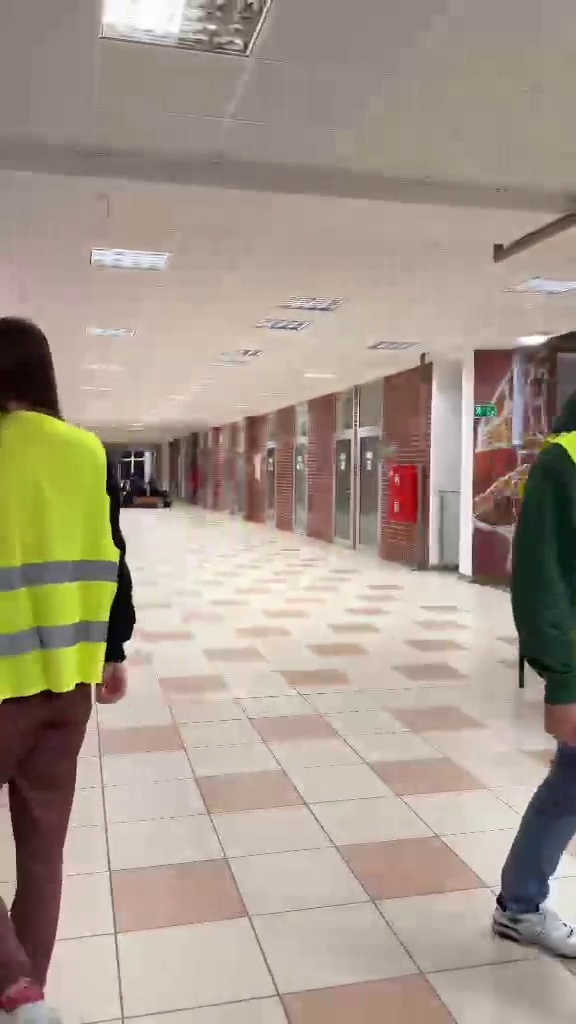vest: (0, 304, 143, 997)
